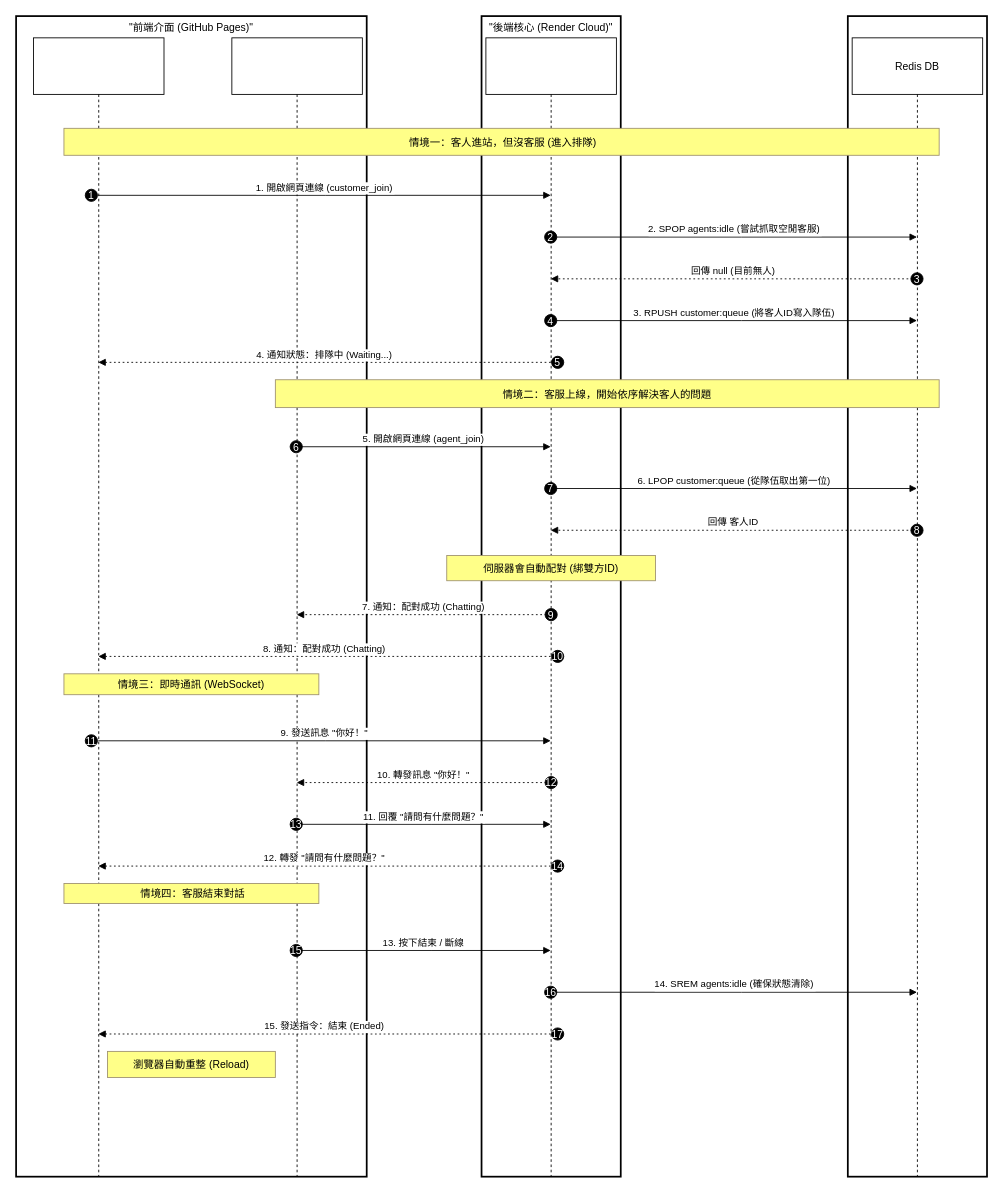
Image size: 1002x1192. Some labels were removed from this diagram. The box of each missing label's shape, as (x1, y1, x2, y2) in pixels:
"資料庫 (Redis Cloud)": (847, 15, 987, 1177)
Node.js 伺服器: (485, 37, 616, 1177)
客人 (index.html): (33, 37, 164, 1177)
客服 (server.html): (231, 37, 362, 1177)
